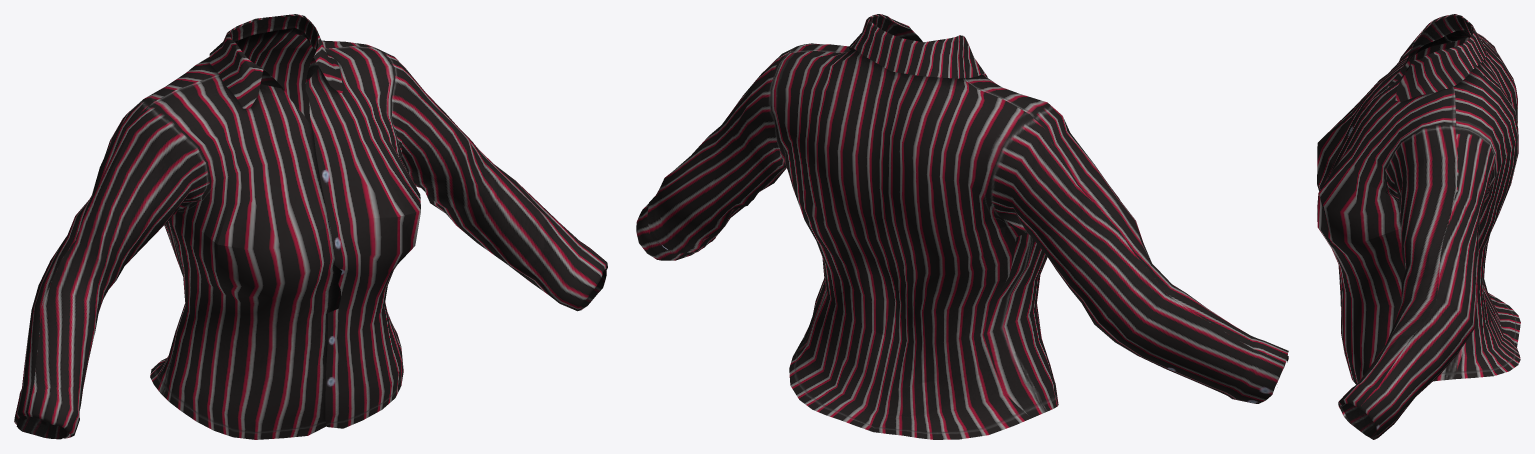
File: LS_SMF.dae
The picture shows the model from 3 angles, left to right: view 1: azimuth 30°, elevation 25°; view 2: azimuth 150°, elevation 25°; view 3: azimuth 270°, elevation 25°; orthographic projection. The views are drawn at different scales.
Visible parts, largest first — view 1: shirt01Mesh; view 2: shirt01Mesh; view 3: shirt01Mesh.
Part boxes in pixels (left/top/right/bottom): shirt01Mesh: left=14, top=14, right=607, bottom=439; shirt01Mesh: left=636, top=14, right=1288, bottom=439; shirt01Mesh: left=1317, top=14, right=1520, bottom=439.
Bounding box in the file's own units: 8.63 × 5.14 × 2.83.
